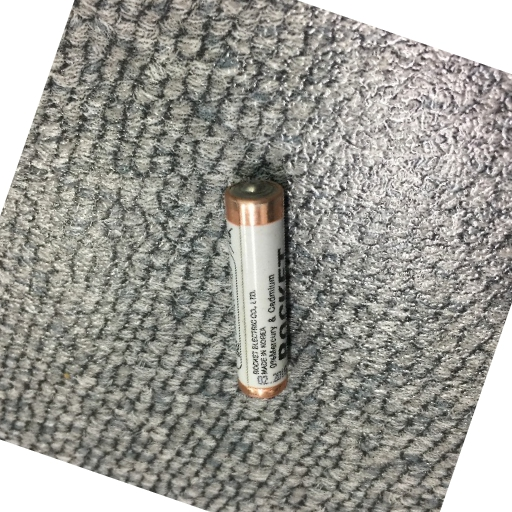Battery_0: (222, 173, 299, 400)
